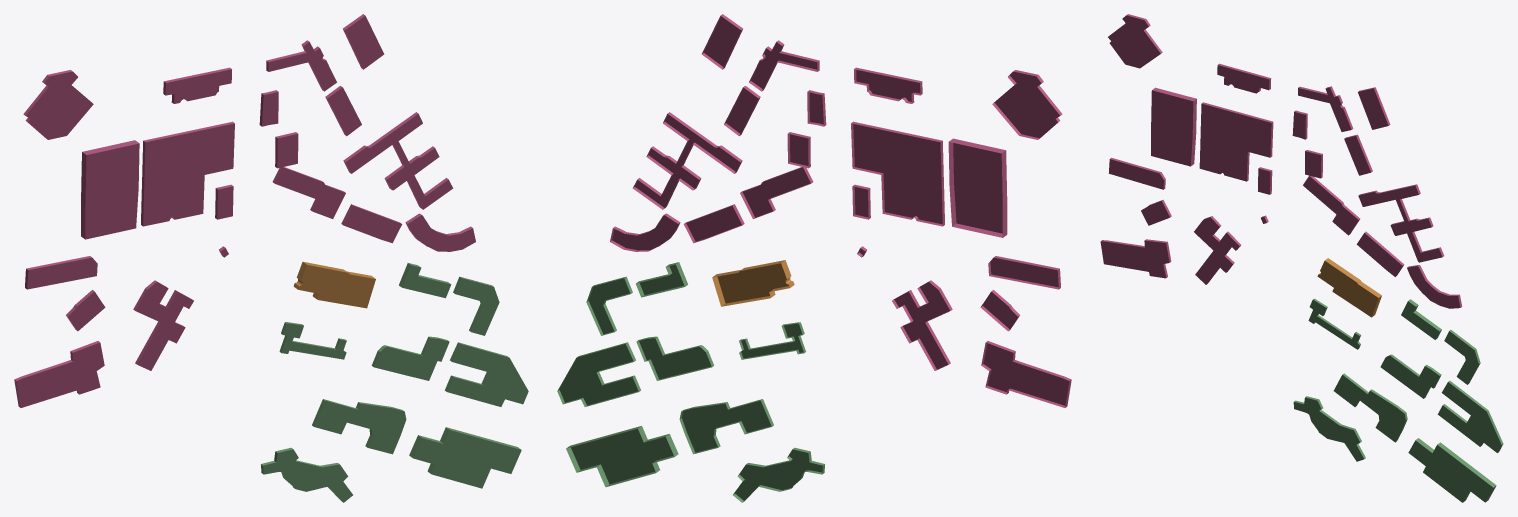
The model's file is buildings_k09.obj.
3 views of the same model, side by side, from view 1: azimuth 30°, elevation 25°; view 2: azimuth 150°, elevation 25°; view 3: azimuth 330°, elevation 25° (orthographic). The views are drawn at different scales.
Visible parts, largest first — view 1: roof1, roof3, zone1, zone3, roof2; view 2: roof1, roof3, zone1, zone3, roof2, zone2; view 3: roof1, roof3, zone1, zone3, roof2.
Boxes of the visible parts, x1,y1,x2,y2 form: roof1: (16, 16, 475, 407); roof3: (263, 265, 528, 502); zone1: (14, 14, 472, 407); zone3: (261, 263, 520, 501); roof2: (298, 265, 375, 308); roof1: (612, 16, 1069, 405); roof3: (559, 264, 822, 500); zone1: (610, 14, 1071, 407); zone3: (557, 262, 824, 502); roof2: (717, 263, 789, 303); zone2: (712, 260, 794, 306); roof1: (1100, 15, 1460, 308); roof3: (1293, 300, 1501, 502); zone1: (1101, 14, 1462, 307); zone3: (1294, 298, 1503, 502); roof2: (1317, 261, 1378, 317).
Bounding box in the file's own units: 557 × 537 × 8.5.
